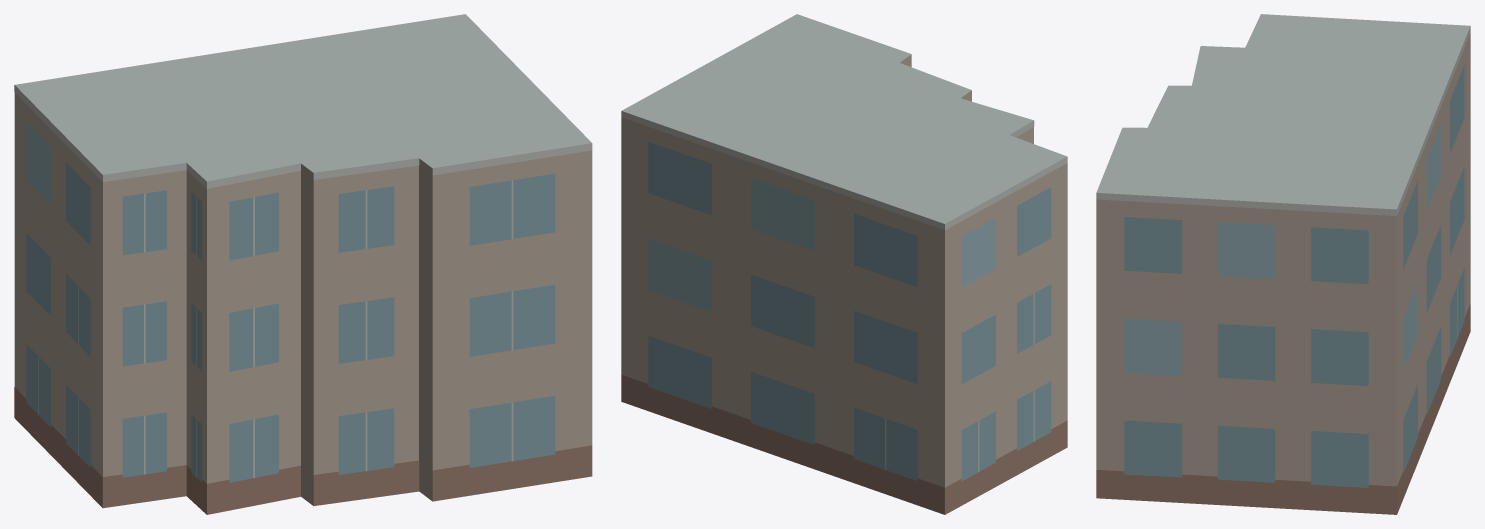
File: survey-upis-32614244.glb
3 views of the same model, side by side, from view 1: azimuth 30°, elevation 25°; view 2: azimuth 150°, elevation 25°; view 3: azimuth 270°, elevation 25° (orthographic). The views are drawn at different scales.
Parts seen in each view (by area): view 1: survey-upis-32614244.tmp; view 2: survey-upis-32614244.tmp; view 3: survey-upis-32614244.tmp.
Part boxes in pixels (x1,y1,x2,y2): survey-upis-32614244.tmp: [14, 14, 592, 514]; survey-upis-32614244.tmp: [621, 14, 1067, 514]; survey-upis-32614244.tmp: [1096, 14, 1470, 514].
Size of the model in its own units: 15.38 by 11.2 by 12.45.
